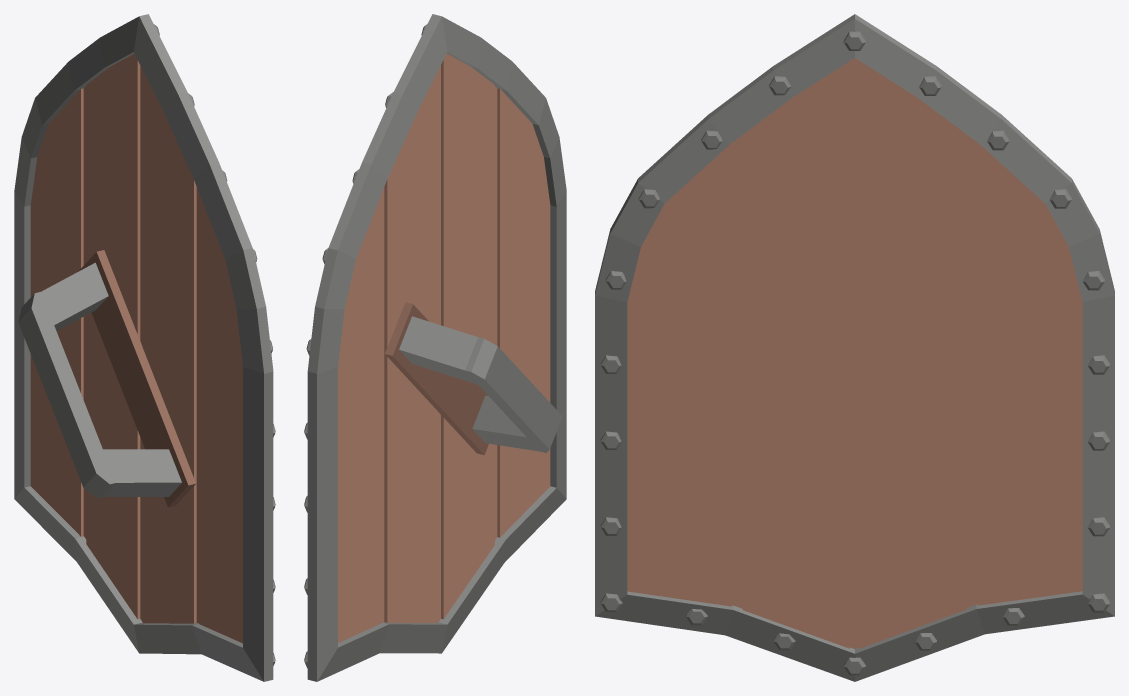
The picture shows the model from 3 angles, left to right: view 1: azimuth 30°, elevation 25°; view 2: azimuth 150°, elevation 25°; view 3: azimuth 270°, elevation 25°; orthographic projection. The views are drawn at different scales.
Parts seen in each view (by area): view 1: Shield C; view 2: Shield C; view 3: Shield C.
Part boxes in pixels (box(x1,y1,x2,y2)): Shield C: box(14, 14, 275, 681); Shield C: box(304, 14, 566, 681); Shield C: box(595, 14, 1114, 681).
Bounding box in the file's own units: 0.1898 × 1.17 × 0.8311.
